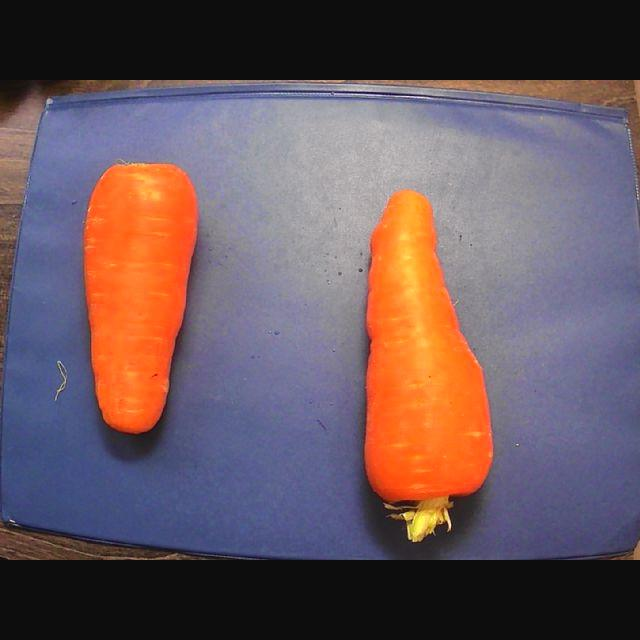zanahoria: (365, 190, 493, 541), (84, 163, 197, 432)
